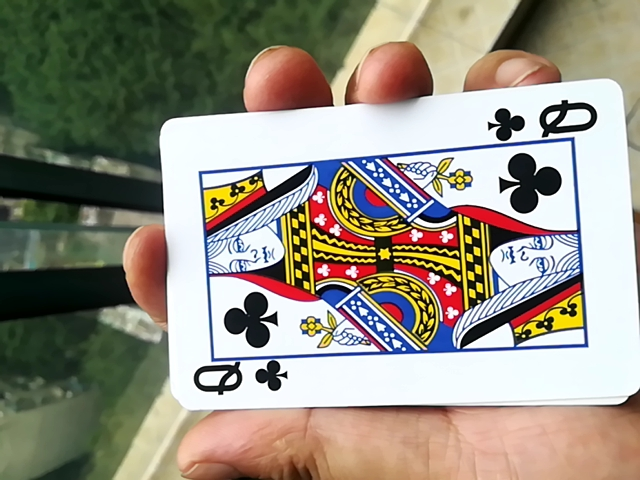mh q: (143, 95, 635, 424)
